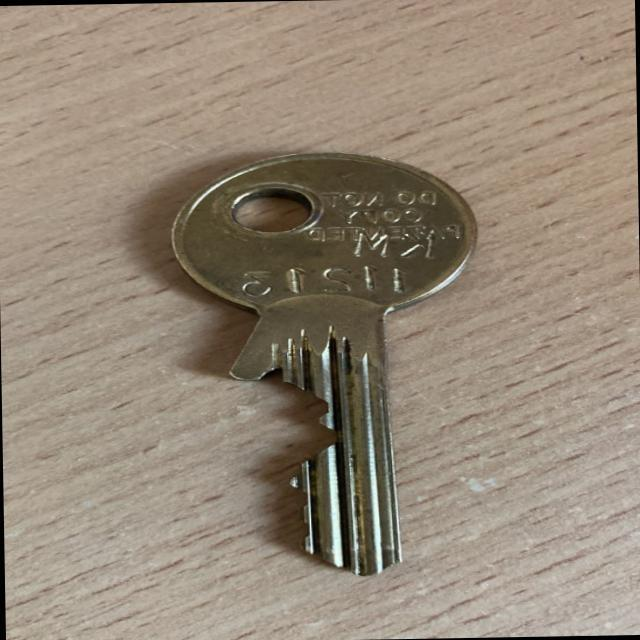Keys: (132, 131, 512, 611)
